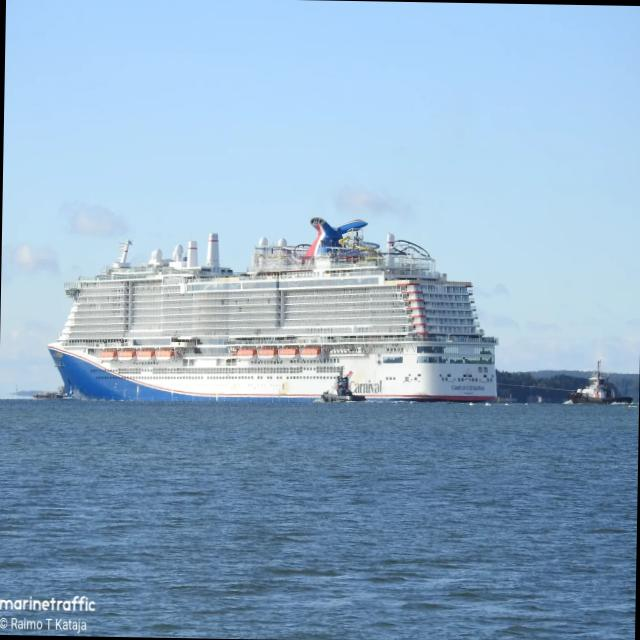Cruise: (48, 217, 497, 402)
Tug: (568, 361, 632, 403), (321, 369, 365, 402)
